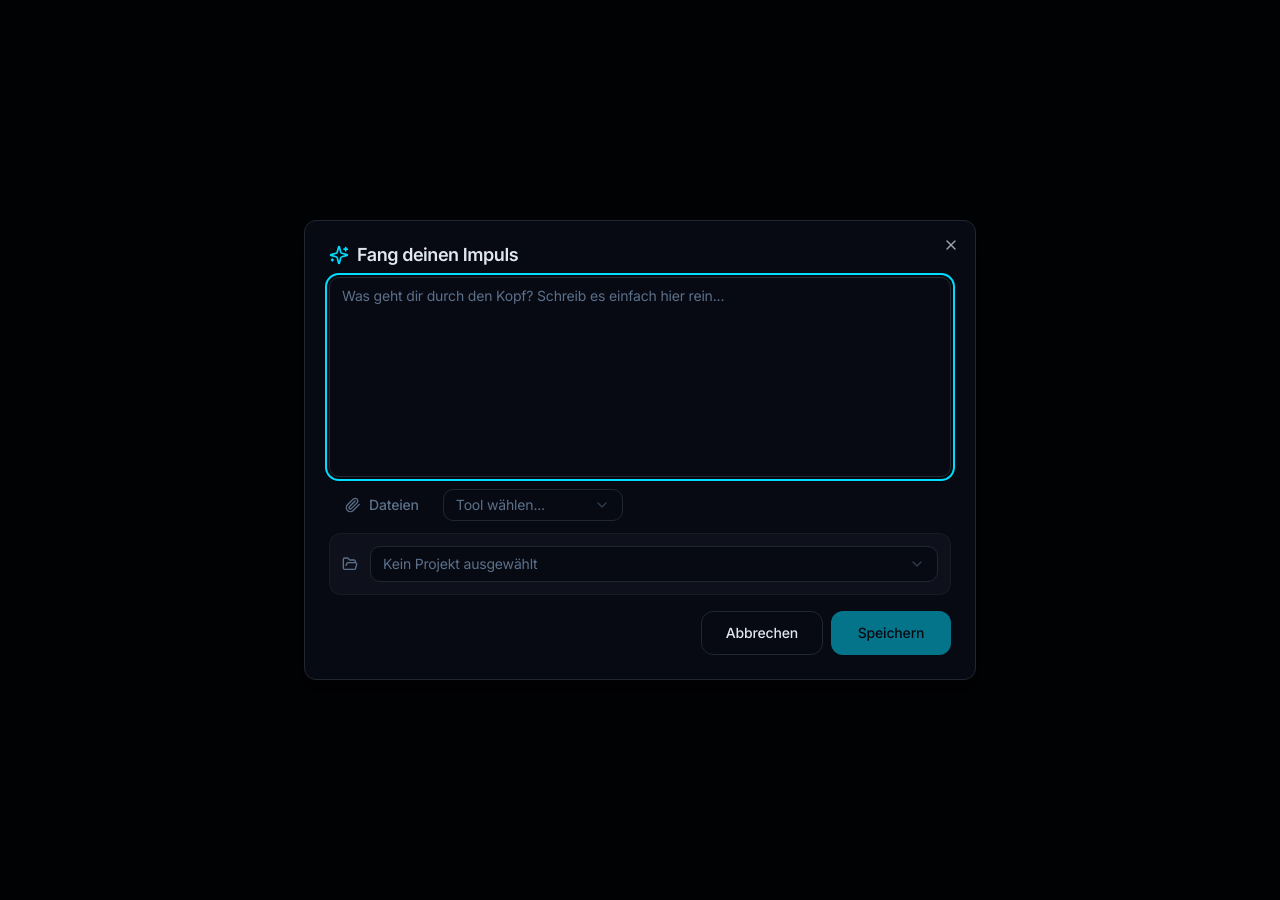
Test case: ImpulseCatcher › should show loading state during submission
Type "Test impulse" into the text box with placeholder "Was geht dir durch den Kopf". click: (640, 377)
box: [329,277,951,477]
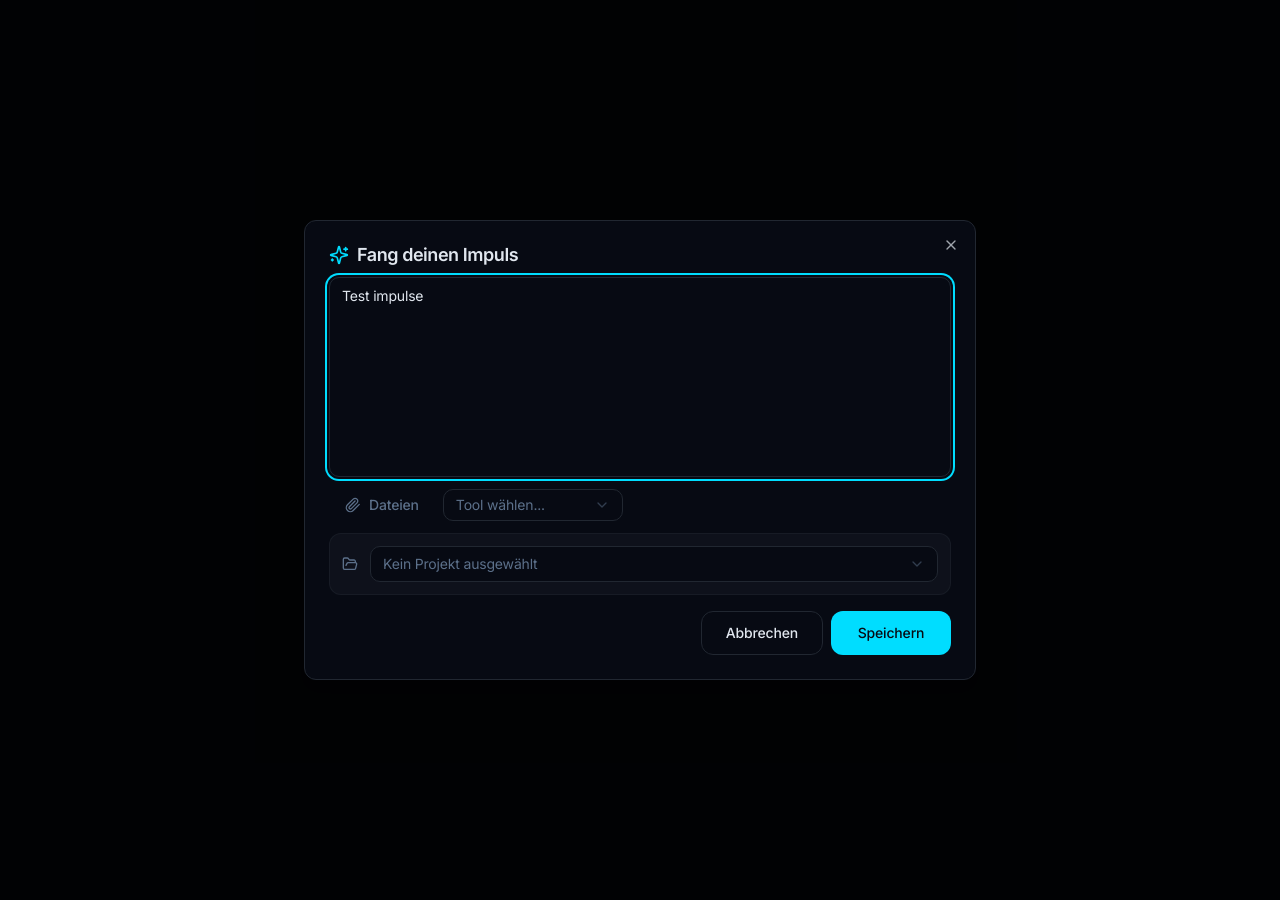
Click the button "Speichern". click: (891, 633)
box: [831,611,951,655]
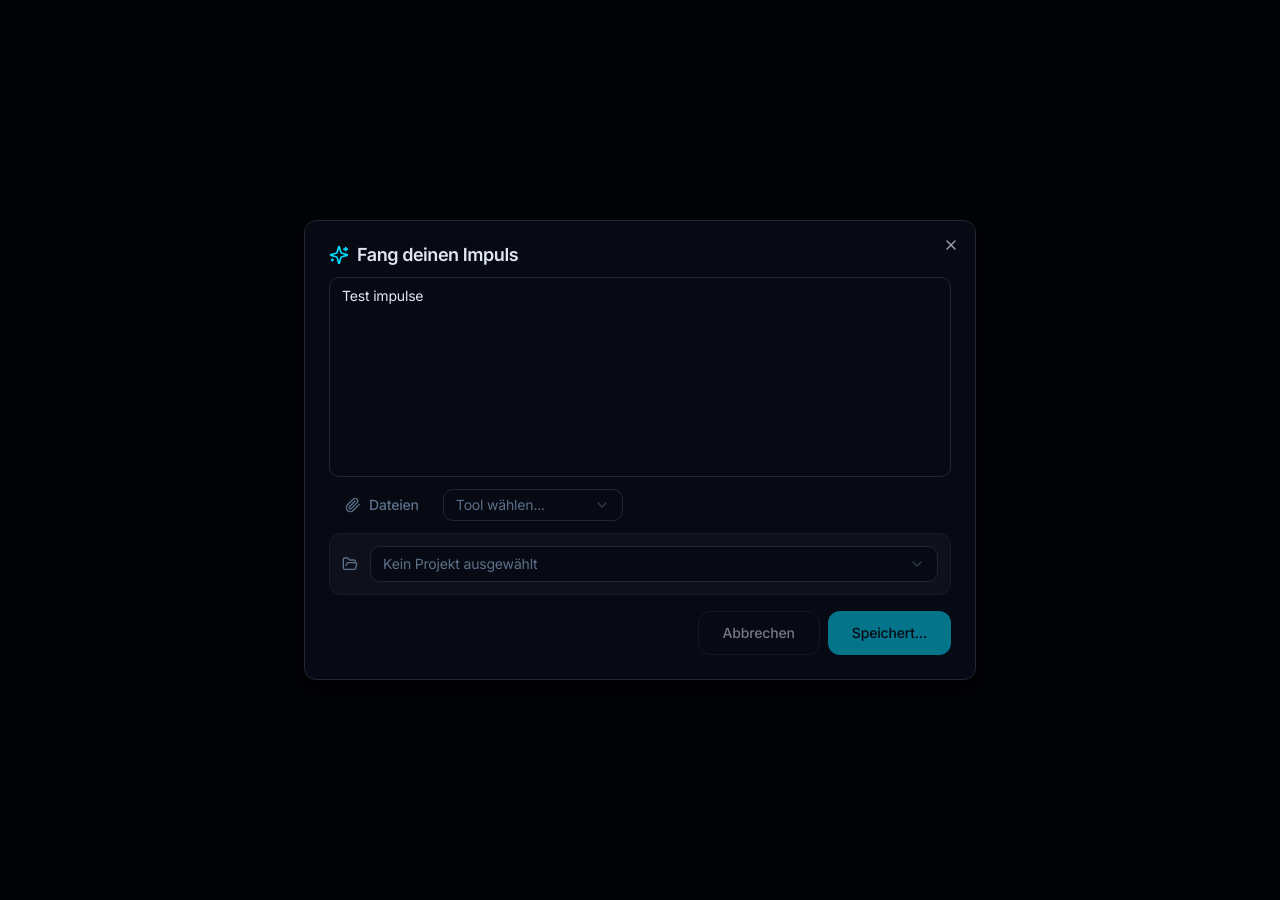
Now the button "Speichert..." is shown, box [828,611,951,655]
